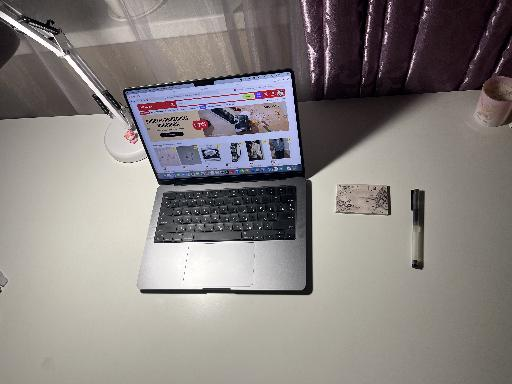aliexpress: (151, 91, 292, 165)
